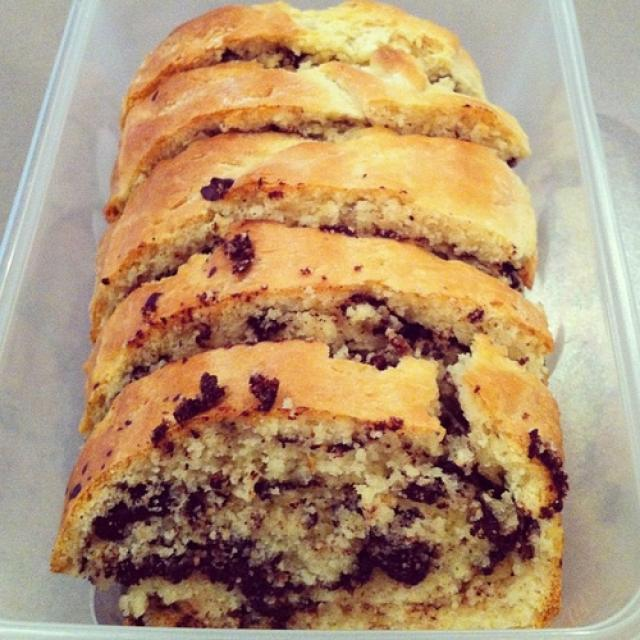面包点心: (47, 8, 589, 631)
